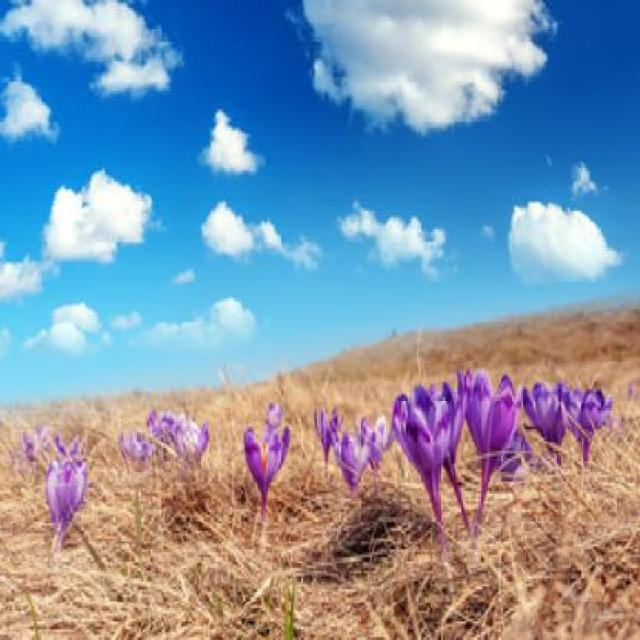Flower: (457, 360, 521, 472), (390, 387, 452, 482), (242, 422, 296, 502), (43, 458, 88, 524), (525, 379, 570, 444), (572, 384, 616, 448), (356, 410, 396, 472), (330, 430, 370, 490), (112, 427, 160, 475), (174, 412, 212, 459), (310, 405, 344, 453)
